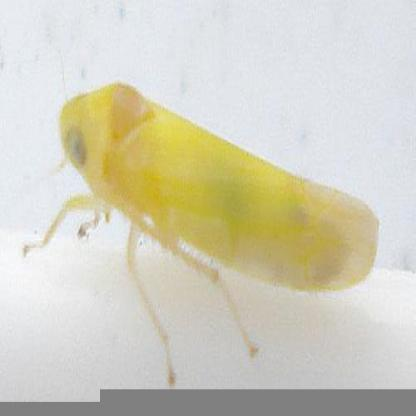green-leafhopper: (59, 80, 374, 308)
